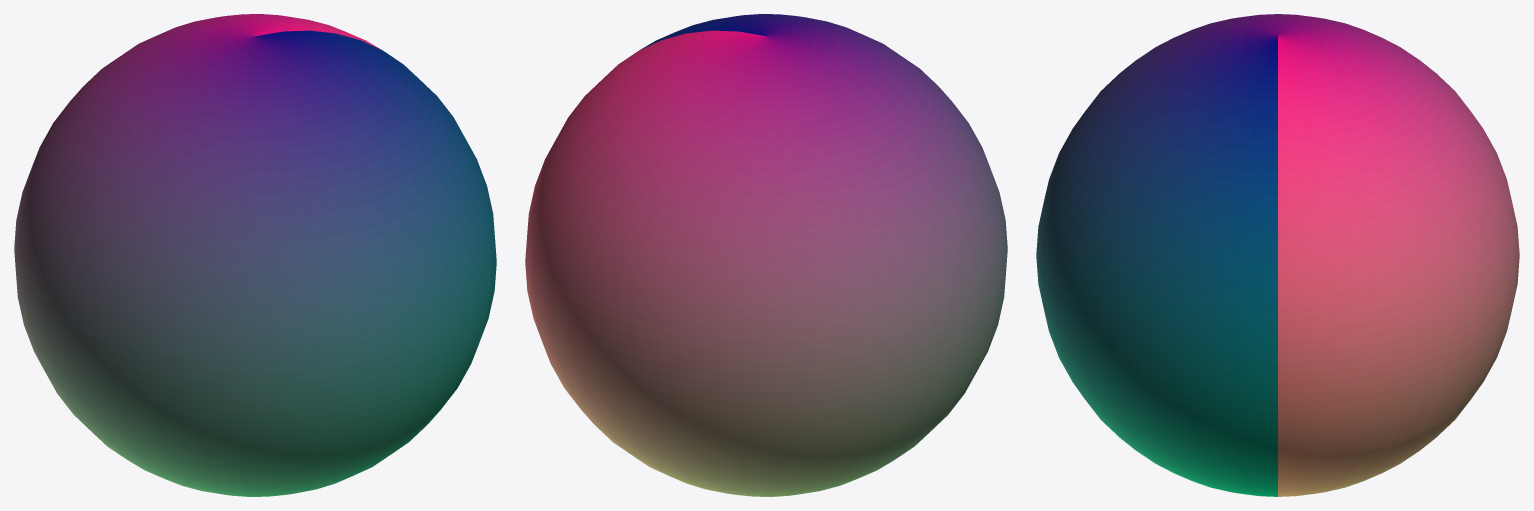
Rendered from plain.glb.
3 views of the same model, side by side, from view 1: azimuth 30°, elevation 25°; view 2: azimuth 150°, elevation 25°; view 3: azimuth 270°, elevation 25° (orthographic).
Parts seen in each view (by area): view 1: gosx-dequantize; view 2: gosx-dequantize; view 3: gosx-dequantize.
Part boxes in pixels (box(x1,y1,x2,y2)): gosx-dequantize: box(14, 14, 496, 496); gosx-dequantize: box(525, 14, 1007, 496); gosx-dequantize: box(1036, 14, 1519, 496).
Bounding box in the file's own units: 8 × 8 × 8.
Materials: 1 (1 with a texture image).
